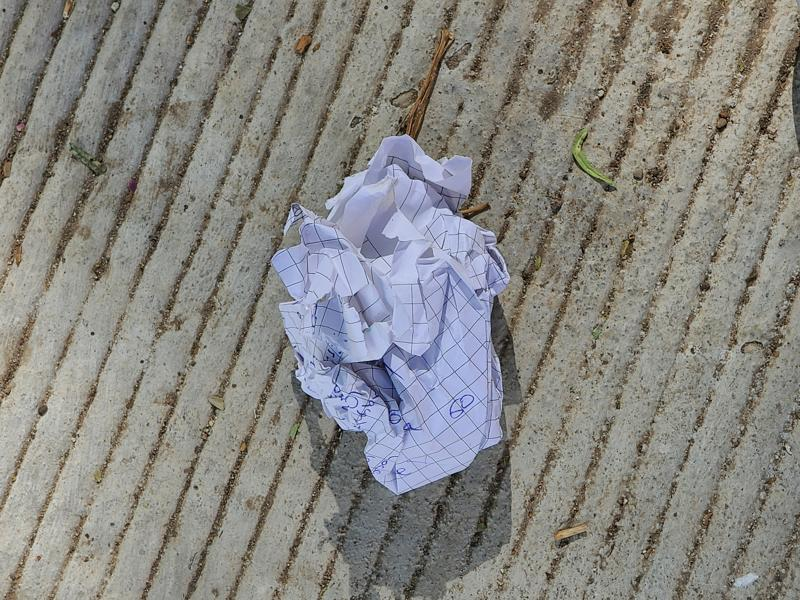papel: (270, 134, 511, 496)
